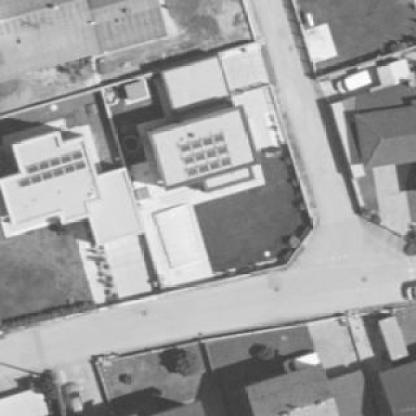solar-pv-panel: (21, 162, 86, 187), (26, 153, 83, 175), (179, 133, 225, 154), (182, 144, 227, 165), (186, 157, 232, 177)
